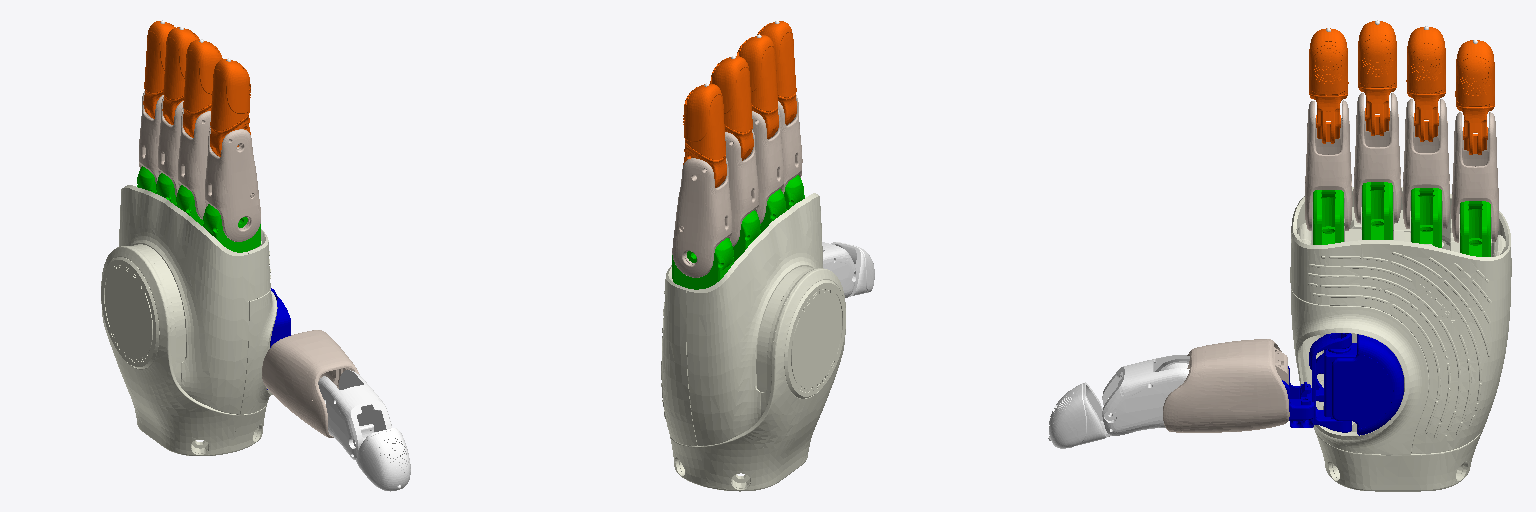
URDF robot description (omnihand):
<?xml version="1.0" ?>
<!-- =================================================================================== -->
<!-- |    This document was autogenerated by xacro from omnihand_left.xacro            | -->
<!-- |    EDITING THIS FILE BY HAND IS NOT RECOMMENDED                                 | -->
<!-- =================================================================================== -->
<robot name="omnihand">
  <!-- joint position value -->
  <material name="black">
    <color rgba="0.0 0.0 0.0 1.0"/>
  </material>
  <material name="blue">
    <color rgba="0.0 0.0 0.8 1.0"/>
  </material>
  <material name="green">
    <color rgba="0.0 0.8 0.0 1.0"/>
  </material>
  <material name="grey">
    <color rgba="0.2 0.2 0.2 1.0"/>
  </material>
  <material name="silver">
    <color rgba="0.9137254901960784 0.9137254901960784 0.8470588235294118 1.0"/>
  </material>
  <material name="orange">
    <color rgba="1.0 0.4235294117647059 0.0392156862745098 1.0"/>
  </material>
  <material name="brown">
    <color rgba="0.8705882352941177 0.8117647058823529 0.7647058823529411 1.0"/>
  </material>
  <material name="red">
    <color rgba="0.8 0.0 0.0 1.0"/>
  </material>
  <material name="white">
    <color rgba="1.0 1.0 1.0 1.0"/>
  </material>
  <link name="base_link">
    <visual>
      <origin rpy="0.0 0.0 0.0" xyz="0.0 0.0 0.0"/>
      <geometry>
        <box size="0.001 0.001 0.001"/>
      </geometry>
    </visual>
  </link>
  <joint name="L_palm_joint" type="fixed">
    <origin rpy="0.0 0.0 0.0" xyz="0.0 0.0 0.0"/>
    <parent link="base_link"/>
    <child link="L_palm"/>
  </joint>
  <link name="L_palm">
    <visual>
      <origin rpy="0 0 0" xyz="0 0 0"/>
      <geometry>
        <mesh filename="package://omnihand_description/meshes/l_palm.STL"/>
      </geometry>
      <material name="silver"/>
    </visual>
    <collision>
      <origin rpy="0 0 0" xyz="0 0 0.00725"/>
      <geometry>
        <cylinder length="0.0145" radius="0.028"/>
      </geometry>
    </collision>
    <collision>
      <origin rpy="0 0 0" xyz="0 0 0.057"/>
      <geometry>
        <box size="0.04 0.082 0.085"/>
      </geometry>
    </collision>
    <inertial>
      <origin rpy="0 0 0" xyz="-0.0071151 -0.0044599 0.0455754"/>
      <mass value="0.2175"/>
      <inertia ixx="0.00023334" ixy="-4.25e-06" ixz="-2.03e-05" iyy="0.00020584" iyz="-9.89e-06" izz="0.00012494"/>
    </inertial>
  </link>
  <!-- thumb  -->
  <joint name="L_thumb_roll_joint" type="revolute">
    <origin rpy="0 0 0" xyz="0 -0.018529 0.046851"/>
    <parent link="L_palm"/>
    <child link="L_thumb_roll"/>
    <axis xyz="1 0 0"/>
    <limit effort="0.419" lower="-0.8726646259971648" upper="0.17453292519943295" velocity="0.164"/>
  </joint>
  <link name="L_thumb_roll">
    <visual>
      <origin rpy="0 0 0" xyz="0 0 0"/>
      <geometry>
        <mesh filename="package://omnihand_description/meshes/l_thumb_roll.STL"/>
      </geometry>
      <material name="blue"/>
    </visual>
    <inertial>
      <origin rpy="0 0 0" xyz="0.018588 0.0062386 0.0002106"/>
      <mass value="0.0179"/>
      <inertia ixx="3.64e-06" ixy="5e-08" ixz="7e-08" iyy="2.68e-06" iyz="-6e-08" izz="1.76e-06"/>
    </inertial>
  </link>
  <joint name="L_thumb_abad_joint" type="revolute">
    <origin rpy="0 0 0" xyz="0.020033 -0.004292 0.00075"/>
    <parent link="L_thumb_roll"/>
    <child link="L_thumb_abad"/>
    <axis xyz="0 0 1"/>
    <limit effort="0.314" lower="0" upper="1.7453292519943295" velocity="0.164"/>
  </joint>
  <link name="L_thumb_abad">
    <visual>
      <origin rpy="0 0 3.14" xyz="0 0 0"/>
      <geometry>
        <mesh filename="package://omnihand_description/meshes/thumb_abad.STL"/>
      </geometry>
      <material name="blue"/>
    </visual>
    <inertial>
      <origin rpy="0 0 0" xyz="0.0 -0.0120925 -0.0060829"/>
      <mass value="0.0061"/>
      <inertia ixx="1.21e-06" ixy="-0.0" ixz="-1e-08" iyy="9.8e-07" iyz="3e-08" izz="6e-07"/>
    </inertial>
  </link>
  <joint name="L_thumb_mcp_joint" type="revolute">
    <origin rpy="0 0 0" xyz="0 -0.0265 -0.0058001"/>
    <parent link="L_thumb_abad"/>
    <child link="L_thumb_mcp"/>
    <axis xyz="1 0 0"/>
    <limit effort="1.764" lower="-0.8552113334772214" upper="0" velocity="0.308"/>
  </joint>
  <link name="L_thumb_mcp">
    <visual>
      <origin rpy="0 0 3.14" xyz="0 0 0"/>
      <geometry>
        <mesh filename="package://omnihand_description/meshes/thumb_mcp.STL"/>
      </geometry>
      <material name="brown"/>
    </visual>
    <collision>
      <origin rpy="0 0 0" xyz="0 -0.0065 0.00237"/>
      <geometry>
        <box size="0.029 0.042 0.0325"/>
      </geometry>
    </collision>
    <inertial>
      <origin rpy="0 0 0" xyz="-1.45e-05 -0.019045 0.0020161"/>
      <mass value="0.045"/>
      <inertia ixx="1.149e-05" ixy="-0.0" ixz="1e-08" iyy="5.16e-06" iyz="5.3e-07" izz="1.049e-05"/>
    </inertial>
  </link>
  <joint name="L_thumb_pip_joint" type="revolute">
    <origin rpy="0 0 0" xyz="0 -0.036229 0.0026606"/>
    <parent link="L_thumb_mcp"/>
    <child link="L_thumb_pip"/>
    <axis xyz="1 0 0"/>
    <limit effort="1.764" lower="-1.1344640137963142" upper="0" velocity="0.308"/>
    <mimic joint="L_thumb_mcp_joint" multiplier="1.33" offset="0"/>
  </joint>
  <link name="L_thumb_pip">
    <visual>
      <origin rpy="0 0 3.14" xyz="0 0 0"/>
      <geometry>
        <mesh filename="package://omnihand_description/meshes/thumb_pip.STL"/>
      </geometry>
      <material name="white"/>
    </visual>
    <collision>
      <origin rpy="0.2 0 0" xyz="0 -0.0116 -0.0032"/>
      <geometry>
        <box size="0.019 0.035 0.0225"/>
      </geometry>
    </collision>
    <inertial>
      <origin rpy="0 0 0" xyz="0.0004121 -0.0066398 -0.0025675"/>
      <mass value="0.0284"/>
      <inertia ixx="4.53e-06" ixy="-1.2e-07" ixz="1.3e-07" iyy="2.5e-06" iyz="5.8e-07" izz="4e-06"/>
    </inertial>
  </link>
  <joint name="L_thumb_dip_joint" type="revolute">
    <origin rpy="0 0 0" xyz="0 -0.026054 -0.008672"/>
    <parent link="L_thumb_pip"/>
    <child link="L_thumb_dip"/>
    <axis xyz="1 0 0"/>
    <limit effort="1.764" lower="-1.1344640137963142" upper="0" velocity="0.308"/>
    <mimic joint="L_thumb_mcp_joint" multiplier="1.3" offset="0"/>
  </joint>
  <link name="L_thumb_dip">
    <visual>
      <origin rpy="0 0 3.14" xyz="0 0 0"/>
      <geometry>
        <mesh filename="package://omnihand_description/meshes/thumb_dip.STL"/>
      </geometry>
      <material name="white"/>
    </visual>
    <collision>
      <origin rpy="1.8 0 0" xyz="0 -0.0134 -0.0026"/>
      <geometry>
        <cylinder length="0.023" radius="0.011"/>
      </geometry>
    </collision>
    <inertial>
      <origin rpy="0 0 0" xyz="-0.0001343 -0.0104003 -0.0042117"/>
      <mass value="0.011"/>
      <inertia ixx="1.1e-06" ixy="-0.0" ixz="0.0" iyy="7.5e-07" iyz="1.9e-07" izz="1.01e-06"/>
    </inertial>
  </link>
  <joint name="L_thumb_tip_joint" type="fixed">
    <origin rpy="0 0 0" xyz="0 -0.02311 -0.01374"/>
    <parent link="L_thumb_dip"/>
    <child link="L_thumb_tip"/>
  </joint>
  <link name="L_thumb_tip">
    <visual>
      <origin rpy="0 0 0" xyz="0 0 0"/>
      <geometry>
        <sphere radius="1e-3"/>
      </geometry>
      <material name="white"/>
    </visual>
  </link>
  <!-- finger  -->
  <joint name="L_index_abad_joint" type="revolute">
    <origin rpy="0 0 0" xyz="-0.00069782 -0.026958 0.094423"/>
    <parent link="L_palm"/>
    <child link="L_index_abad"/>
    <axis xyz="1 0 0"/>
    <limit effort="1.863" lower="0" upper="0.20943951023931953" velocity="0.164"/>
  </joint>
  <link name="L_index_abad">
    <visual>
      <origin rpy="0 0 0" xyz="0 0 0"/>
      <geometry>
        <mesh filename="package://omnihand_description/meshes/finger_abad.STL"/>
      </geometry>
      <material name="green"/>
    </visual>
    <inertial>
      <origin rpy="0 0 0" xyz="-0.0009337 -2.37e-05 0.0063625"/>
      <mass value="0.0349"/>
      <inertia ixx="6.74e-06" ixy="0.0" ixz="-3.3e-07" iyy="7.81e-06" iyz="0.0" izz="2.37e-06"/>
    </inertial>
  </link>
  
        y 
  <joint name="L_index_pip_joint" type="revolute">
    <origin rpy="0 0 0" xyz="0.001025 0 0.017575"/>
    <parent link="L_index_abad"/>
    <child link="L_index_pip"/>
    <axis xyz="0 1 0"/>
    <limit effort="1.764" lower="0" upper="1.5707963267948966" velocity="0.308"/>
  </joint>
  <link name="L_index_pip">
    <visual>
      <origin rpy="0 0 0" xyz="0 0 0"/>
      <geometry>
        <mesh filename="package://omnihand_description/meshes/finger_pip.STL"/>
      </geometry>
      <material name="brown"/>
    </visual>
    <collision>
      <origin rpy="0 0 0" xyz="0 0 0.014"/>
      <geometry>
        <cylinder length="0.044" radius="0.01"/>
      </geometry>
    </collision>
    <inertial>
      <origin rpy="0 0 0" xyz="-0.0009312 -9.8e-06 0.0120489"/>
      <mass value="0.0125"/>
      <inertia ixx="3.16e-06" ixy="0.0" ixz="-3.5e-07" iyy="3.23e-06" iyz="0.0" izz="6.3e-07"/>
    </inertial>
  </link>
  <joint name="L_index_dip_joint" type="revolute">
    <origin rpy="0 0 0" xyz=" -0.0014266  0 0.036"/>
    <parent link="L_index_pip"/>
    <child link="L_index_dip"/>
    <axis xyz="0 1 0"/>
    <limit effort="1.764" lower="0" upper="1.8325957145940461" velocity="0.308"/>
    <mimic joint="L_index_pip_joint" multiplier="1.097" offset="0"/>
  </joint>
  <link name="L_index_dip">
    <visual>
      <origin rpy="0 0 0" xyz="0 0 0"/>
      <geometry>
        <mesh filename="package://omnihand_description/meshes/finger_dip.STL"/>
      </geometry>
      <material name="orange"/>
    </visual>
    <collision>
      <origin rpy="0 0 0" xyz="0 0 0.018"/>
      <geometry>
        <cylinder length="0.034" radius="0.007"/>
      </geometry>
    </collision>
    <inertial>
      <origin rpy="0 0 0" xyz="0.0002904 4.82e-05 0.0167403"/>
      <mass value="0.0047"/>
      <inertia ixx="7.6e-07" ixy="0.0" ixz="2e-08" iyy="7.7e-07" iyz="0.0" izz="1.6e-07"/>
    </inertial>
  </link>
  <joint name="L_index_tip_joint" type="fixed">
    <origin rpy="0 0 0" xyz="-0.00131 0 0.03841"/>
    <parent link="L_index_dip"/>
    <child link="L_index_tip"/>
  </joint>
  <link name="L_index_tip">
    <visual>
      <origin rpy="0 0 0" xyz="0 0 0"/>
      <geometry>
        <sphere radius="1e-3"/>
      </geometry>
      <material name="white"/>
    </visual>
  </link>
  <joint name="L_middle_abad_joint" type="fixed">
    <origin rpy="0 0 0" xyz="-0.0031978 -0.0079501 0.096423"/>
    <parent link="L_palm"/>
    <child link="L_middle_abad"/>
  </joint>
  <link name="L_middle_abad">
    <visual>
      <origin rpy="0 0 0" xyz="0 0 0"/>
      <geometry>
        <mesh filename="package://omnihand_description/meshes/finger_abad.STL"/>
      </geometry>
      <material name="green"/>
    </visual>
    <inertial>
      <origin rpy="0 0 0" xyz="-0.0009337 -2.37e-05 0.0063625"/>
      <mass value="0.0349"/>
      <inertia ixx="6.74e-06" ixy="0.0" ixz="-3.3e-07" iyy="7.81e-06" iyz="0.0" izz="2.37e-06"/>
    </inertial>
  </link>
  
        y 
  <joint name="L_middle_pip_joint" type="revolute">
    <origin rpy="0 0 0" xyz="0.001025 0 0.017575"/>
    <parent link="L_middle_abad"/>
    <child link="L_middle_pip"/>
    <axis xyz="0 1 0"/>
    <limit effort="1.764" lower="0" upper="1.5707963267948966" velocity="0.308"/>
  </joint>
  <link name="L_middle_pip">
    <visual>
      <origin rpy="0 0 0" xyz="0 0 0"/>
      <geometry>
        <mesh filename="package://omnihand_description/meshes/finger_pip.STL"/>
      </geometry>
      <material name="brown"/>
    </visual>
    <collision>
      <origin rpy="0 0 0" xyz="0 0 0.014"/>
      <geometry>
        <cylinder length="0.044" radius="0.01"/>
      </geometry>
    </collision>
    <inertial>
      <origin rpy="0 0 0" xyz="-0.0009312 -9.8e-06 0.0120489"/>
      <mass value="0.0125"/>
      <inertia ixx="3.16e-06" ixy="0.0" ixz="-3.5e-07" iyy="3.23e-06" iyz="0.0" izz="6.3e-07"/>
    </inertial>
  </link>
  <joint name="L_middle_dip_joint" type="revolute">
    <origin rpy="0 0 0" xyz=" -0.0014266  0 0.036"/>
    <parent link="L_middle_pip"/>
    <child link="L_middle_dip"/>
    <axis xyz="0 1 0"/>
    <limit effort="1.764" lower="0" upper="1.8325957145940461" velocity="0.308"/>
    <mimic joint="L_middle_pip_joint" multiplier="1.097" offset="0"/>
  </joint>
  <link name="L_middle_dip">
    <visual>
      <origin rpy="0 0 0" xyz="0 0 0"/>
      <geometry>
        <mesh filename="package://omnihand_description/meshes/finger_dip.STL"/>
      </geometry>
      <material name="orange"/>
    </visual>
    <collision>
      <origin rpy="0 0 0" xyz="0 0 0.018"/>
      <geometry>
        <cylinder length="0.034" radius="0.007"/>
      </geometry>
    </collision>
    <inertial>
      <origin rpy="0 0 0" xyz="0.0002904 4.82e-05 0.0167403"/>
      <mass value="0.0047"/>
      <inertia ixx="7.6e-07" ixy="0.0" ixz="2e-08" iyy="7.7e-07" iyz="0.0" izz="1.6e-07"/>
    </inertial>
  </link>
  <joint name="L_middle_tip_joint" type="fixed">
    <origin rpy="0 0 0" xyz="-0.00131 0 0.03841"/>
    <parent link="L_middle_dip"/>
    <child link="L_middle_tip"/>
  </joint>
  <link name="L_middle_tip">
    <visual>
      <origin rpy="0 0 0" xyz="0 0 0"/>
      <geometry>
        <sphere radius="1e-3"/>
      </geometry>
      <material name="white"/>
    </visual>
  </link>
  <joint name="L_ring_abad_joint" type="revolute">
    <origin rpy="0 0 0" xyz="-0.0021978 0.01105 0.094423"/>
    <parent link="L_palm"/>
    <child link="L_ring_abad"/>
    <axis xyz="1 0 0"/>
    <limit effort="2.766" lower="-0.17453292519943295" upper="0" velocity="0.164"/>
  </joint>
  <link name="L_ring_abad">
    <visual>
      <origin rpy="0 0 0" xyz="0 0 0"/>
      <geometry>
        <mesh filename="package://omnihand_description/meshes/finger_abad.STL"/>
      </geometry>
      <material name="green"/>
    </visual>
    <inertial>
      <origin rpy="0 0 0" xyz="-0.0009337 -2.37e-05 0.0063625"/>
      <mass value="0.0349"/>
      <inertia ixx="6.74e-06" ixy="0.0" ixz="-3.3e-07" iyy="7.81e-06" iyz="0.0" izz="2.37e-06"/>
    </inertial>
  </link>
  
        y 
  <joint name="L_ring_pip_joint" type="revolute">
    <origin rpy="0 0 0" xyz="0.001025 0 0.017575"/>
    <parent link="L_ring_abad"/>
    <child link="L_ring_pip"/>
    <axis xyz="0 1 0"/>
    <limit effort="1.764" lower="0" upper="1.5707963267948966" velocity="0.308"/>
  </joint>
  <link name="L_ring_pip">
    <visual>
      <origin rpy="0 0 0" xyz="0 0 0"/>
      <geometry>
        <mesh filename="package://omnihand_description/meshes/finger_pip.STL"/>
      </geometry>
      <material name="brown"/>
    </visual>
    <collision>
      <origin rpy="0 0 0" xyz="0 0 0.014"/>
      <geometry>
        <cylinder length="0.044" radius="0.01"/>
      </geometry>
    </collision>
    <inertial>
      <origin rpy="0 0 0" xyz="-0.0009312 -9.8e-06 0.0120489"/>
      <mass value="0.0125"/>
      <inertia ixx="3.16e-06" ixy="0.0" ixz="-3.5e-07" iyy="3.23e-06" iyz="0.0" izz="6.3e-07"/>
    </inertial>
  </link>
  <joint name="L_ring_dip_joint" type="revolute">
    <origin rpy="0 0 0" xyz=" -0.0014266  0 0.036"/>
    <parent link="L_ring_pip"/>
    <child link="L_ring_dip"/>
    <axis xyz="0 1 0"/>
    <limit effort="1.764" lower="0" upper="1.8325957145940461" velocity="0.308"/>
    <mimic joint="L_ring_pip_joint" multiplier="1.097" offset="0"/>
  </joint>
  <link name="L_ring_dip">
    <visual>
      <origin rpy="0 0 0" xyz="0 0 0"/>
      <geometry>
        <mesh filename="package://omnihand_description/meshes/finger_dip.STL"/>
      </geometry>
      <material name="orange"/>
    </visual>
    <collision>
      <origin rpy="0 0 0" xyz="0 0 0.018"/>
      <geometry>
        <cylinder length="0.034" radius="0.007"/>
      </geometry>
    </collision>
    <inertial>
      <origin rpy="0 0 0" xyz="0.0002904 4.82e-05 0.0167403"/>
      <mass value="0.0047"/>
      <inertia ixx="7.6e-07" ixy="0.0" ixz="2e-08" iyy="7.7e-07" iyz="0.0" izz="1.6e-07"/>
    </inertial>
  </link>
  <joint name="L_ring_tip_joint" type="fixed">
    <origin rpy="0 0 0" xyz="-0.00131 0 0.03841"/>
    <parent link="L_ring_dip"/>
    <child link="L_ring_tip"/>
  </joint>
  <link name="L_ring_tip">
    <visual>
      <origin rpy="0 0 0" xyz="0 0 0"/>
      <geometry>
        <sphere radius="1e-3"/>
      </geometry>
      <material name="white"/>
    </visual>
  </link>
  <joint name="L_pinky_abad_joint" type="revolute">
    <origin rpy="0 0 0" xyz="-0.00069782 0.03005 0.089423"/>
    <parent link="L_palm"/>
    <child link="L_pinky_abad"/>
    <axis xyz="1 0 0"/>
    <limit effort="3.393" lower="-0.20943951023931953" upper="0" velocity="0.164"/>
  </joint>
  <link name="L_pinky_abad">
    <visual>
      <origin rpy="0 0 0" xyz="0 0 0"/>
      <geometry>
        <mesh filename="package://omnihand_description/meshes/finger_abad.STL"/>
      </geometry>
      <material name="green"/>
    </visual>
    <inertial>
      <origin rpy="0 0 0" xyz="-0.0009337 -2.37e-05 0.0063625"/>
      <mass value="0.0349"/>
      <inertia ixx="6.74e-06" ixy="0.0" ixz="-3.3e-07" iyy="7.81e-06" iyz="0.0" izz="2.37e-06"/>
    </inertial>
  </link>
  
        y 
  <joint name="L_pinky_pip_joint" type="revolute">
    <origin rpy="0 0 0" xyz="0.001025 0 0.017575"/>
    <parent link="L_pinky_abad"/>
    <child link="L_pinky_pip"/>
    <axis xyz="0 1 0"/>
    <limit effort="1.764" lower="0" upper="1.5707963267948966" velocity="0.308"/>
  </joint>
  <link name="L_pinky_pip">
    <visual>
      <origin rpy="0 0 0" xyz="0 0 0"/>
      <geometry>
        <mesh filename="package://omnihand_description/meshes/finger_pip.STL"/>
      </geometry>
      <material name="brown"/>
    </visual>
    <collision>
      <origin rpy="0 0 0" xyz="0 0 0.014"/>
      <geometry>
        <cylinder length="0.044" radius="0.01"/>
      </geometry>
    </collision>
    <inertial>
      <origin rpy="0 0 0" xyz="-0.0009312 -9.8e-06 0.0120489"/>
      <mass value="0.0125"/>
      <inertia ixx="3.16e-06" ixy="0.0" ixz="-3.5e-07" iyy="3.23e-06" iyz="0.0" izz="6.3e-07"/>
    </inertial>
  </link>
  <joint name="L_pinky_dip_joint" type="revolute">
    <origin rpy="0 0 0" xyz=" -0.0014266  0 0.036"/>
    <parent link="L_pinky_pip"/>
    <child link="L_pinky_dip"/>
    <axis xyz="0 1 0"/>
    <limit effort="1.764" lower="0" upper="1.8325957145940461" velocity="0.308"/>
    <mimic joint="L_pinky_pip_joint" multiplier="1.097" offset="0"/>
  </joint>
  <link name="L_pinky_dip">
    <visual>
      <origin rpy="0 0 0" xyz="0 0 0"/>
      <geometry>
        <mesh filename="package://omnihand_description/meshes/finger_dip.STL"/>
      </geometry>
      <material name="orange"/>
    </visual>
    <collision>
      <origin rpy="0 0 0" xyz="0 0 0.018"/>
      <geometry>
        <cylinder length="0.034" radius="0.007"/>
      </geometry>
    </collision>
    <inertial>
      <origin rpy="0 0 0" xyz="0.0002904 4.82e-05 0.0167403"/>
      <mass value="0.0047"/>
      <inertia ixx="7.6e-07" ixy="0.0" ixz="2e-08" iyy="7.7e-07" iyz="0.0" izz="1.6e-07"/>
    </inertial>
  </link>
  <joint name="L_pinky_tip_joint" type="fixed">
    <origin rpy="0 0 0" xyz="-0.00131 0 0.03841"/>
    <parent link="L_pinky_dip"/>
    <child link="L_pinky_tip"/>
  </joint>
  <link name="L_pinky_tip">
    <visual>
      <origin rpy="0 0 0" xyz="0 0 0"/>
      <geometry>
        <sphere radius="1e-3"/>
      </geometry>
      <material name="white"/>
    </visual>
  </link>
</robot>

--- What the picture shows (computed from the rendered views, not written in the file) ---
The picture shows the robot from 3 angles, left to right: view 1: azimuth 30°, elevation 25°; view 2: azimuth 150°, elevation 25°; view 3: azimuth 270°, elevation 25°; orthographic projection.
Robot: omnihand — 24 links, 23 joints (16 revolute, 7 fixed); root link base_link; default pose: every joint at zero.
Visible links, largest first — view 1: L_palm, L_thumb_mcp, L_index_pip, L_thumb_pip, L_index_dip, L_thumb_dip, L_middle_dip, L_middle_pip, L_ring_dip, L_pinky_dip, L_ring_pip, L_pinky_pip (+2 smaller); view 2: L_palm, L_pinky_pip, L_pinky_dip, L_ring_dip, L_middle_dip, L_ring_pip, L_middle_pip, L_index_dip, L_pinky_abad, L_index_pip, L_thumb_pip, L_thumb_dip (+2 smaller); view 3: L_palm, L_thumb_mcp, L_thumb_roll, L_thumb_pip, L_ring_dip, L_index_dip, L_pinky_dip, L_middle_dip, L_index_pip, L_middle_pip, L_pinky_pip, L_ring_pip (+6 smaller).
Link boxes in pixels (bbox=[...]): L_palm: bbox=[101, 185, 277, 455]; L_thumb_mcp: bbox=[262, 330, 359, 437]; L_index_pip: bbox=[205, 129, 260, 241]; L_thumb_pip: bbox=[318, 370, 391, 459]; L_index_dip: bbox=[210, 59, 250, 156]; L_thumb_dip: bbox=[356, 424, 410, 491]; L_middle_dip: bbox=[183, 40, 222, 137]; L_middle_pip: bbox=[178, 110, 210, 219]; L_ring_dip: bbox=[162, 27, 199, 124]; L_pinky_dip: bbox=[143, 21, 175, 118]; L_ring_pip: bbox=[158, 97, 183, 196]; L_pinky_pip: bbox=[139, 91, 163, 183]; L_palm: bbox=[661, 193, 845, 491]; L_pinky_pip: bbox=[672, 158, 731, 277]; L_pinky_dip: bbox=[683, 84, 726, 187]; L_ring_dip: bbox=[710, 56, 753, 160]; L_middle_dip: bbox=[737, 35, 778, 138]; L_ring_pip: bbox=[725, 130, 758, 246]; L_middle_pip: bbox=[752, 109, 783, 223]; L_index_dip: bbox=[757, 21, 796, 124]; L_pinky_abad: bbox=[672, 238, 733, 289]; L_index_pip: bbox=[778, 95, 802, 193]; L_thumb_pip: bbox=[822, 242, 855, 297]; L_thumb_dip: bbox=[831, 242, 874, 296]; L_palm: bbox=[1290, 187, 1511, 491]; L_thumb_mcp: bbox=[1163, 339, 1289, 432]; L_thumb_roll: bbox=[1316, 334, 1403, 435]; L_thumb_pip: bbox=[1102, 355, 1189, 435]; L_ring_dip: bbox=[1406, 27, 1445, 141]; L_index_dip: bbox=[1309, 28, 1348, 143]; L_pinky_dip: bbox=[1455, 40, 1494, 154]; L_middle_dip: bbox=[1358, 21, 1396, 135]; L_index_pip: bbox=[1305, 100, 1352, 230]; L_middle_pip: bbox=[1353, 93, 1401, 223]; L_pinky_pip: bbox=[1451, 112, 1498, 242]; L_ring_pip: bbox=[1402, 99, 1449, 228].
Bounding box of the posed robot: 0.0719 × 0.1798 × 0.1899 m (x, y, z).
Meshes: 9 distinct files referenced, 18 mesh visuals loaded (9 binary STL).